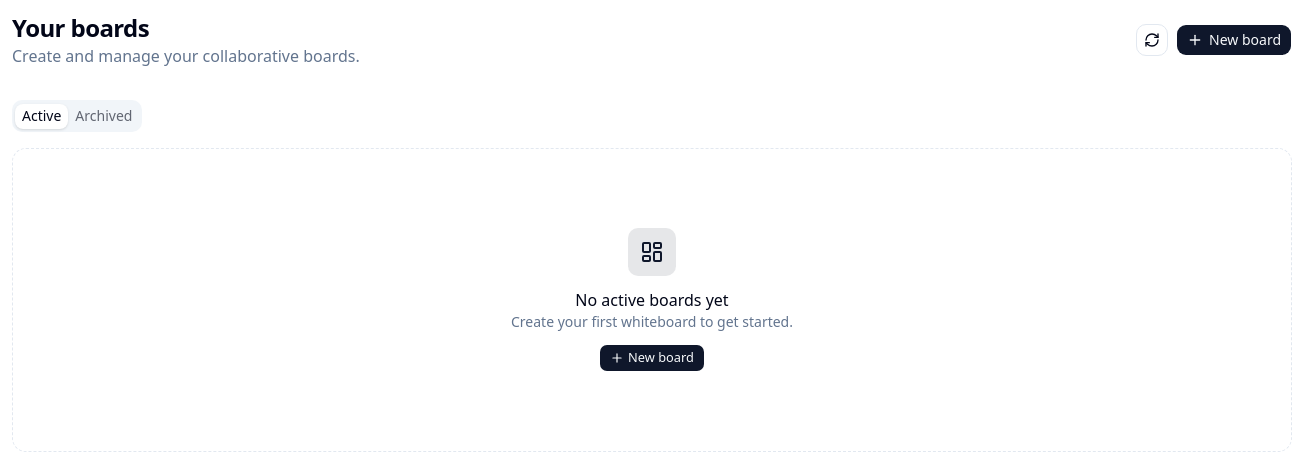
Scenario: DashboardPage integration › shows no create button in the archived empty state
expect the text "No active boards yet" is shown: met, box 575,289 -> 729,311
Click the tab "Archived": [104, 116] box 68,104 -> 139,128
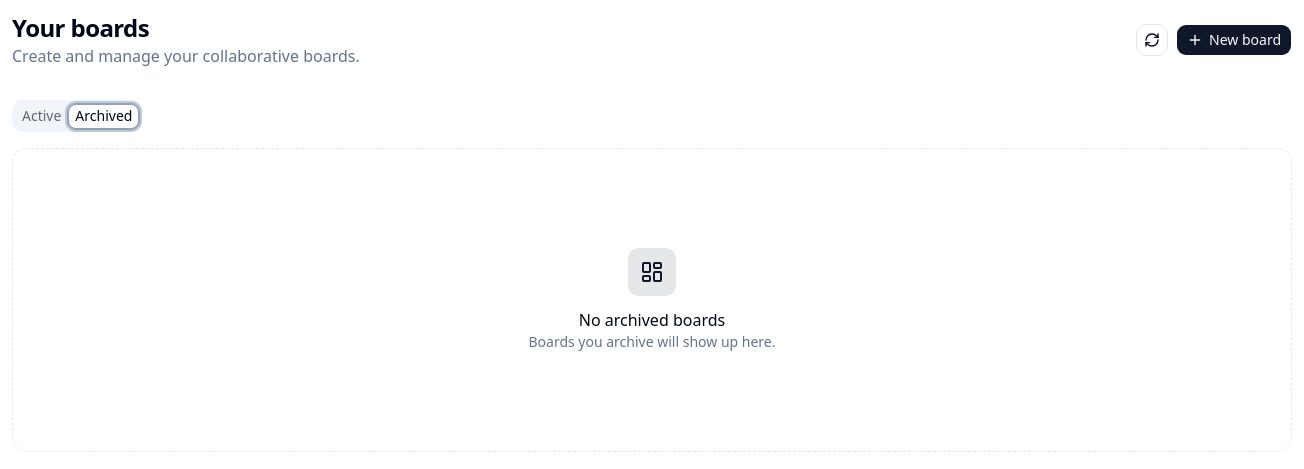
expect the number of buttons "New board" is 1: met, box 1176,24 -> 1292,56
expect the text "No archived boards" is shown: met, box 579,309 -> 725,331
